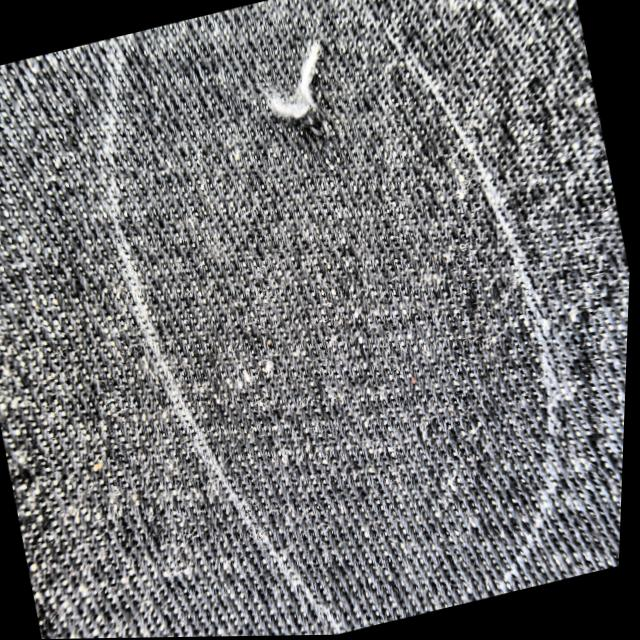Hole: (232, 29, 370, 175)
